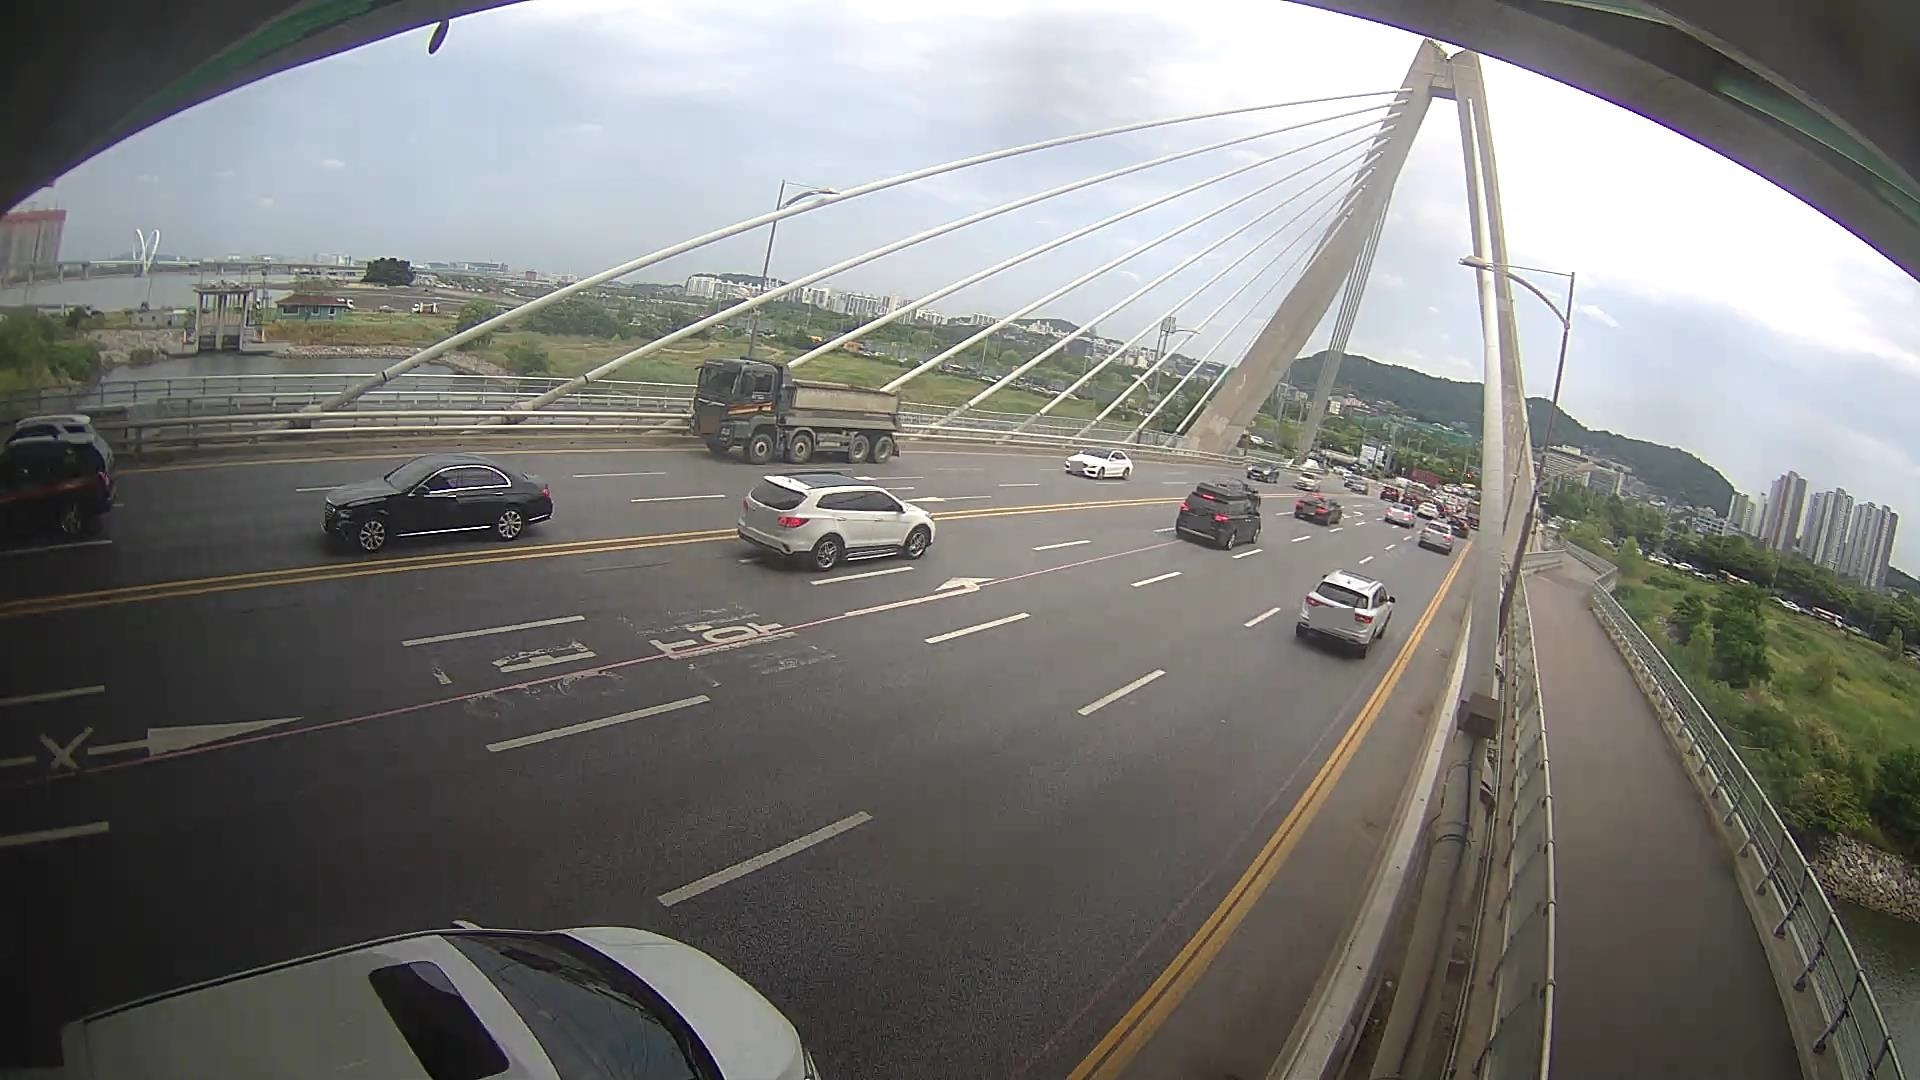정상차량: (691, 356, 902, 464)
